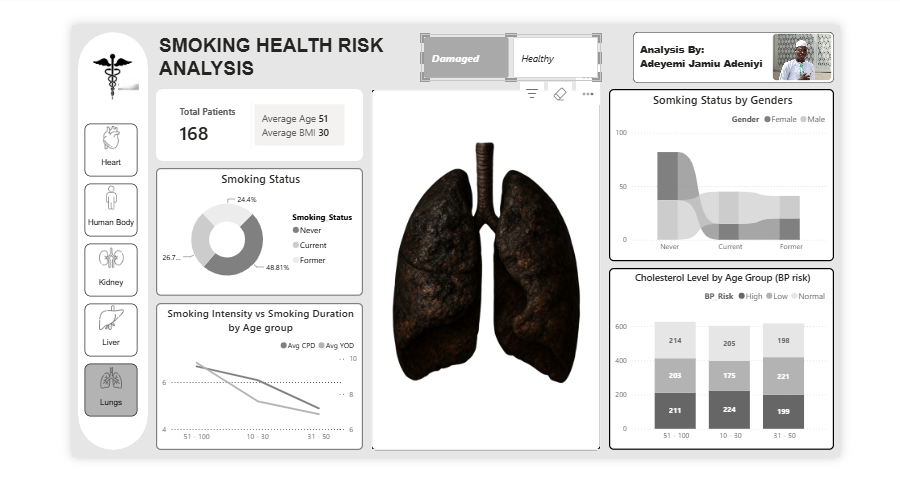

The dashboard page shown, as its layout file describes it:
{"tool":"powerbi","page":{"name":"Page 1","canvas":[1280,720],"ordinal":0},"visuals":[{"type":"shape","box":[10,11.7,116.7,696.7],"z":0},{"type":"shape","box":[140,106.7,345,120],"z":1000},{"type":"advancedSlicerVisual","fields":{"Values":["condition.Organ_Condition"]},"box":[581.7,15,300,78.3],"z":2000},{"type":"image","box":[498.3,106.7,383.3,601.7],"z":3000},{"type":"ChicletSlicer1448559807354","fields":{"Category":["Organs.Organ"],"Image":["Organs.Icon_URL"]},"box":[10.1,154.1,116.6,512.6],"z":4000},{"type":"cardVisual","fields":{"Data":["Count(health_dataset.Patient_ID)"]},"box":[150,110,326.7,113.3],"z":5000},{"type":"donutChart","title":"Smoking Status","fields":{"Category":["health_dataset.Smoking_Status"],"Y":["CountNonNull(health_dataset.Smoking_Status)"]},"box":[140,238.3,345,213.3],"z":6000},{"type":"lineChart","title":"Smoking Intensity vs Smoking Duration by Age group","fields":{"Category":["health_dataset.Age groups"],"Y":["Avg(health_dataset.Cigarettes_Per_Day)"],"Y2":["Avg(health_dataset.Years_of_Smoking)"]},"box":[140,463.3,345,245],"z":7000},{"type":"ribbonChart","title":"Somking Status by Genders","fields":{"Category":["health_dataset.Smoking_Status"],"Series":["health_dataset.Gender"],"Y":["CountNonNull(health_dataset.Gender)"]},"box":[895,106.7,375,286.7],"z":8000},{"type":"columnChart","title":"Cholesterol Level by Age Group (BP risk)","fields":{"Series":["health_dataset.BP_Risk"],"Category":["health_dataset.Age groups"],"Y":["Avg(health_dataset.Cholesterol_Level)"]},"box":[895,405,375,303.3],"z":9000},{"type":"image","box":[23.3,38.3,88.3,93.3],"z":10000},{"type":"textbox","box":[140,11.7,403.3,85],"z":11000},{"type":"shape","box":[935,11.7,335,85],"z":11500},{"type":"image","box":[1166,14,100,80],"z":12000},{"type":"textbox","box":[942,23.3,218.3,61.7],"z":14000}]}

Visuals, with their boxes on the page's 1280x720 design canvas (x1, y1, x2, y2). These are canvas units, not pixel positions in the 900x481 screenshot, which may show the page scaled, cropped or inside an application window:
shape: detection(10, 12, 127, 708)
shape: detection(140, 107, 485, 227)
advancedSlicerVisual - condition.Organ_Condition: detection(582, 15, 882, 93)
image: detection(498, 107, 882, 708)
ChicletSlicer1448559807354 - Organs.Organ x Organs.Icon_URL: detection(10, 154, 127, 667)
cardVisual - Count(health_dataset.Patient_ID): detection(150, 110, 477, 223)
"Smoking Status" donutChart: detection(140, 238, 485, 452)
"Smoking Intensity vs Smoking Duration by Age group" lineChart: detection(140, 463, 485, 708)
"Somking Status by Genders" ribbonChart: detection(895, 107, 1270, 393)
"Cholesterol Level by Age Group (BP risk)" columnChart: detection(895, 405, 1270, 708)
image: detection(23, 38, 112, 132)
textbox: detection(140, 12, 543, 97)
shape: detection(935, 12, 1270, 97)
image: detection(1166, 14, 1266, 94)
textbox: detection(942, 23, 1160, 85)
